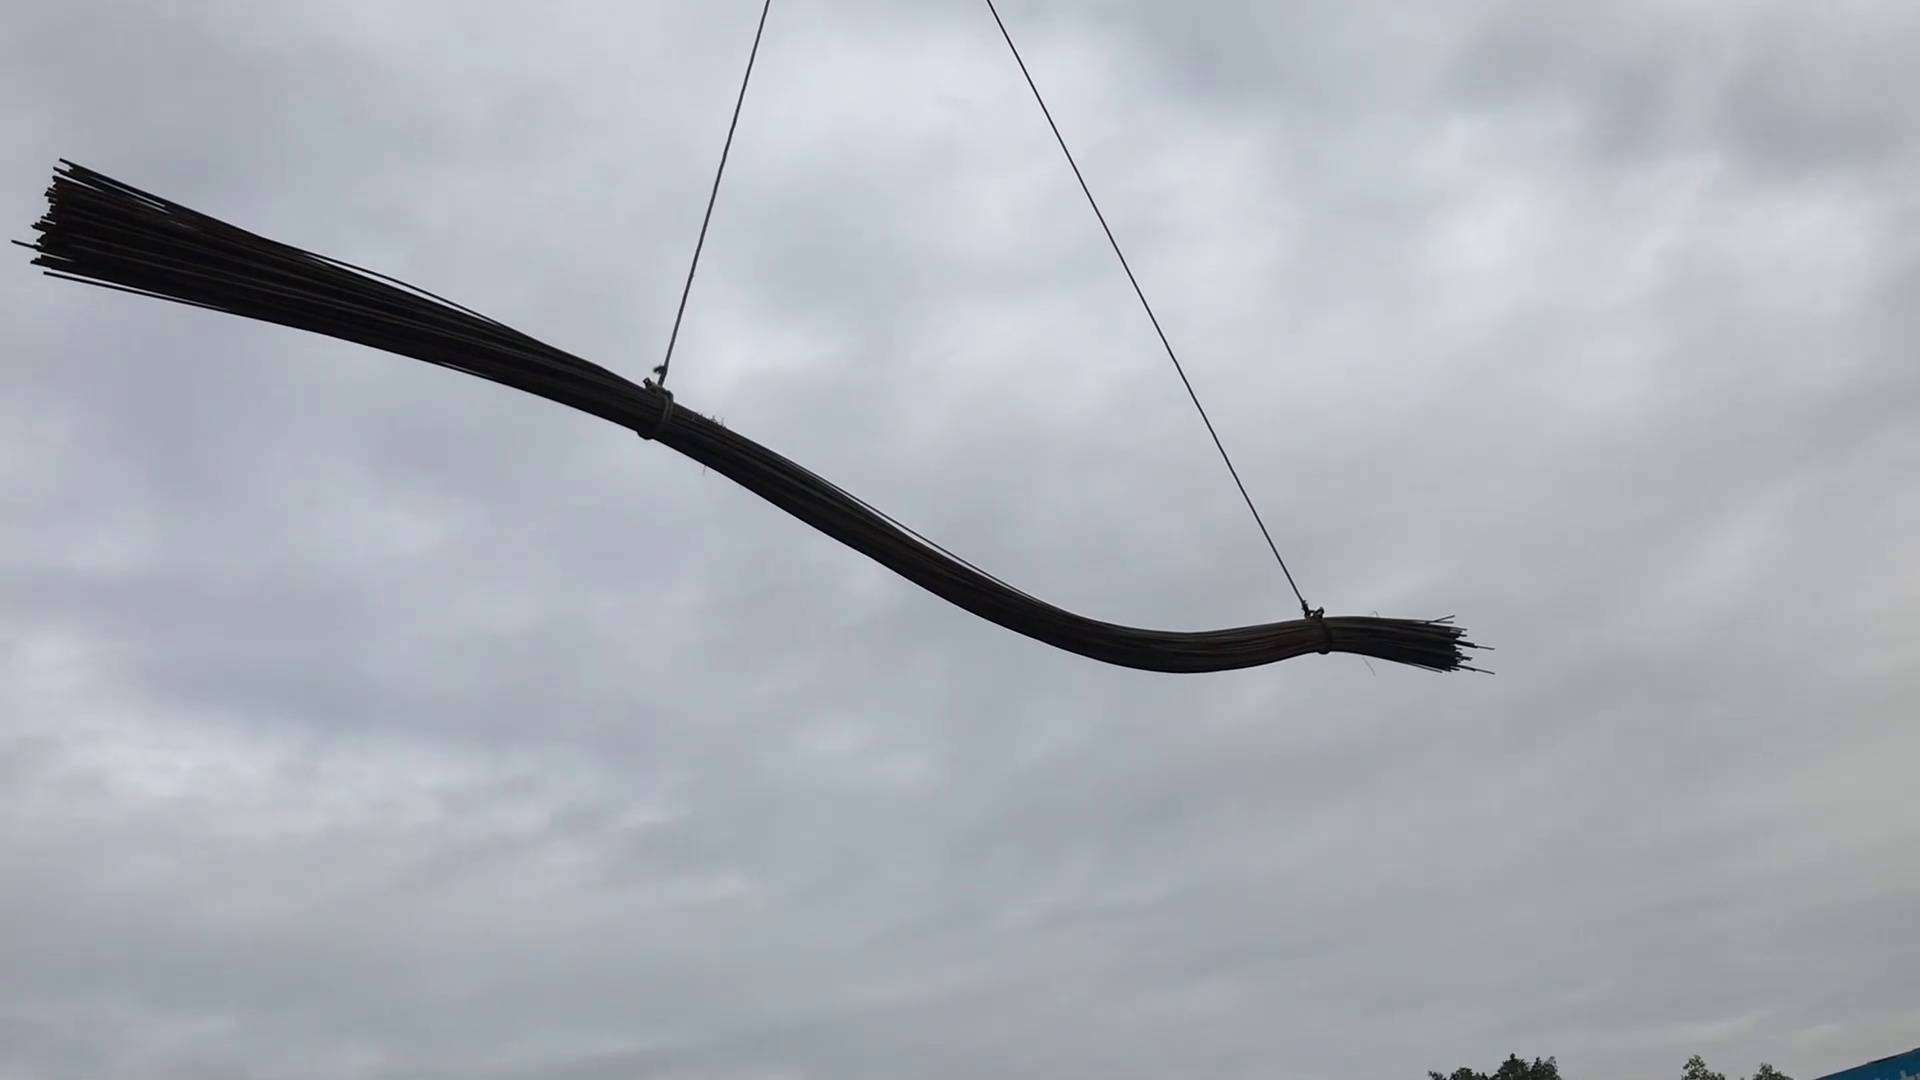rebar: (45, 193, 531, 382), (880, 560, 1486, 669)
